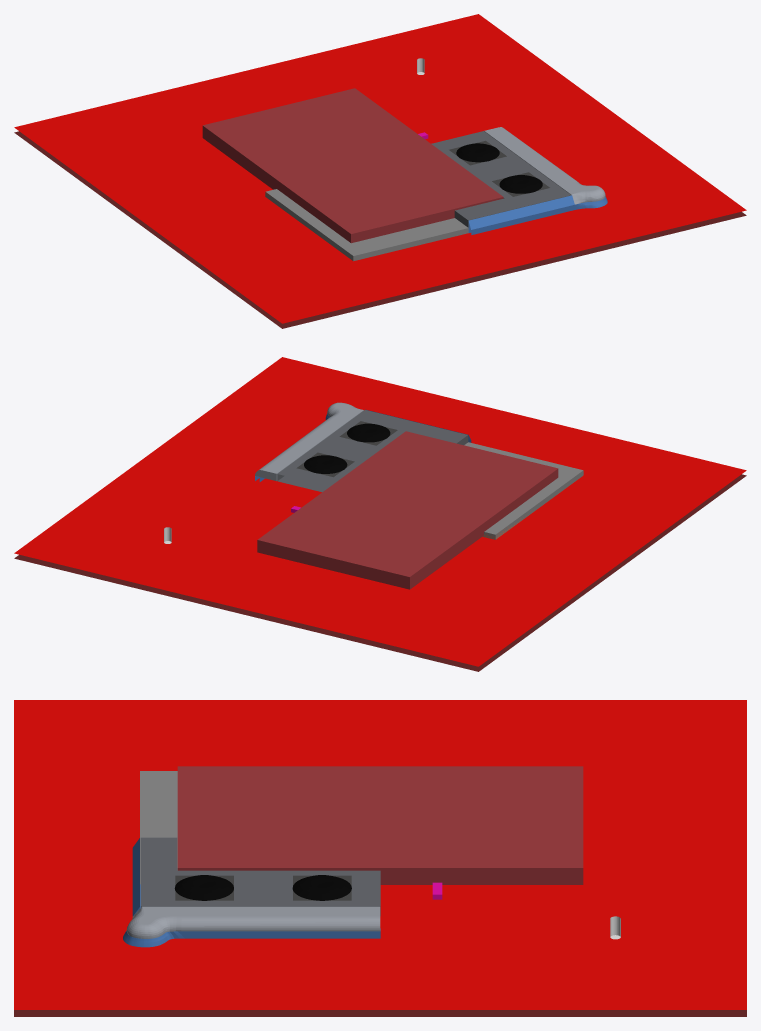
The picture shows the model from 3 angles, top to bottom: view 1: azimuth 30°, elevation 25°; view 2: azimuth 150°, elevation 25°; view 3: azimuth 270°, elevation 25°; orthographic projection. The views are drawn at different scales.
Visible parts, largest first — view 1: Top Limit Platine, Screen inner dimensions with edge (appraisal), Bottom Limit Platine, Upper middle case part plastik, Screen outer dimensions, Upper side case part plastik, Metal case, Buttons boolean; view 2: Top Limit Platine, Screen inner dimensions with edge (appraisal), Bottom Limit Platine, Upper middle case part plastik, Screen outer dimensions, Upper side case part plastik, Buttons boolean; view 3: Top Limit Platine, Screen inner dimensions with edge (appraisal), Upper middle case part plastik, Upper side case part plastik, Bottom Limit Platine, Metal case, Screen outer dimensions, Buttons boolean, Buttons Layout.
Boxes of the visible parts, x1,y1,x2,y2 form: Top Limit Platine: (14,14,746,323); Screen inner dimensions with edge (appraisal): (202,88,503,243); Bottom Limit Platine: (14,131,746,328); Upper middle case part plastik: (431,131,571,227); Screen outer dimensions: (265,189,468,261); Upper side case part plastik: (484,127,605,204); Metal case: (468,195,607,234); Buttons boolean: (456,143,542,193); Top Limit Platine: (14,357,746,666); Screen inner dimensions with edge (appraisal): (257,431,558,589); Bottom Limit Platine: (14,474,746,671); Upper middle case part plastik: (277,410,468,492); Screen outer dimensions: (464,442,583,539); Upper side case part plastik: (255,402,363,481); Buttons boolean: (304,423,390,473); Top Limit Platine: (14,700,746,1009); Screen inner dimensions with edge (appraisal): (177,766,583,884); Upper middle case part plastik: (140,837,380,915); Upper side case part plastik: (126,906,380,938); Bottom Limit Platine: (14,1010,746,1016); Metal case: (123,838,380,947); Screen outer dimensions: (140,771,177,884); Buttons boolean: (174,875,351,900); Buttons Layout: (175,875,351,900).
Size of the model in its own units: 0.1501 by 0.0189 by 0.1501.
